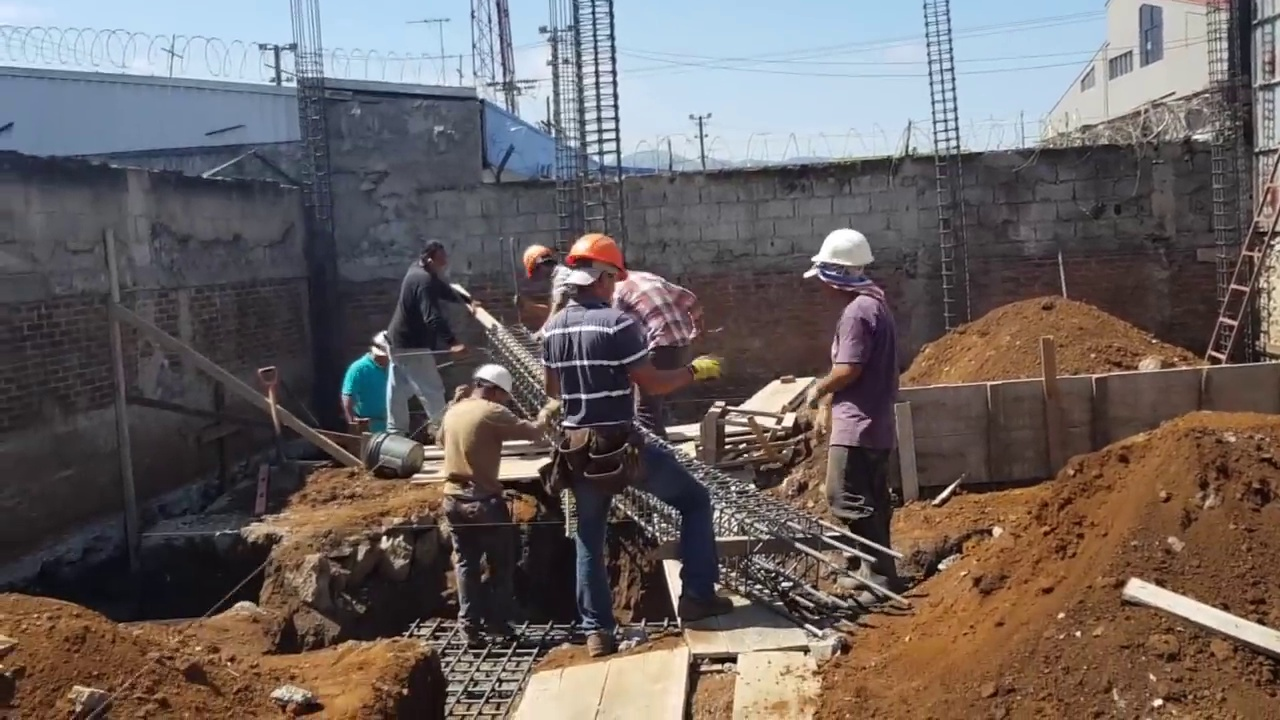helmet: (806, 228, 878, 274), (566, 234, 628, 280), (474, 363, 513, 401), (523, 244, 553, 279), (373, 330, 389, 348)
helmet-off: (415, 245, 445, 278)
helmet-on: (806, 226, 878, 300), (562, 232, 627, 307), (461, 363, 512, 403), (521, 244, 561, 287), (367, 330, 390, 368)
person: (537, 234, 721, 654), (806, 222, 902, 618), (436, 361, 559, 654), (606, 261, 706, 442), (382, 245, 469, 430), (342, 330, 390, 437)
